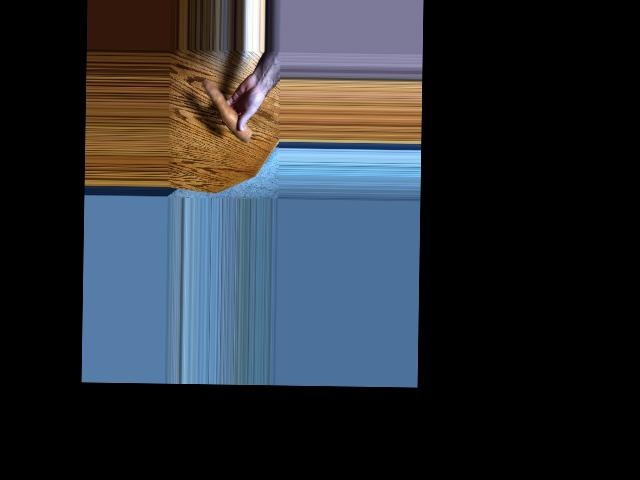sweet_potato: (203, 80, 253, 137)
